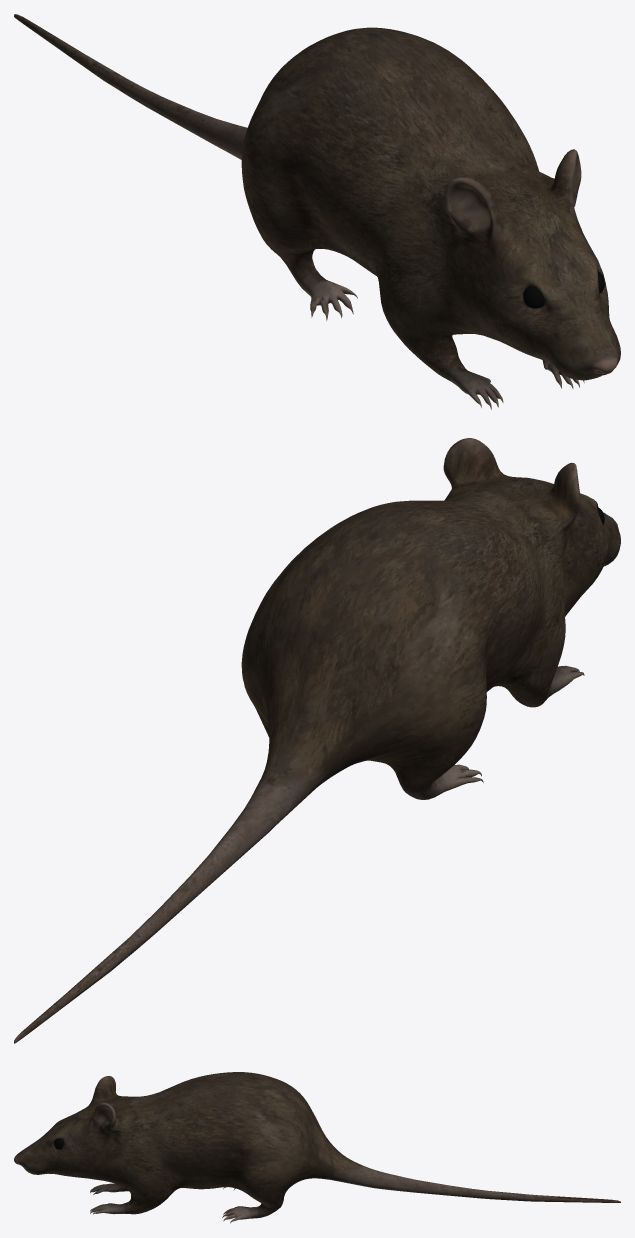
Rendered from street_rat.glb.
3 views of the same model, one above another, from view 1: azimuth 30°, elevation 25°; view 2: azimuth 150°, elevation 25°; view 3: azimuth 270°, elevation 25° (orthographic). The views are drawn at different scales.
Parts seen in each view (by area): view 1: street_rat; view 2: street_rat; view 3: street_rat.
Part boxes in pixels (x1,y1,x2,y2): street_rat: (14, 14, 620, 409); street_rat: (14, 438, 620, 1043); street_rat: (14, 1072, 620, 1223).
Size of the model in its own units: 0.032 by 0.0339 by 0.1483.
Materials: 1 (1 with a texture image).
